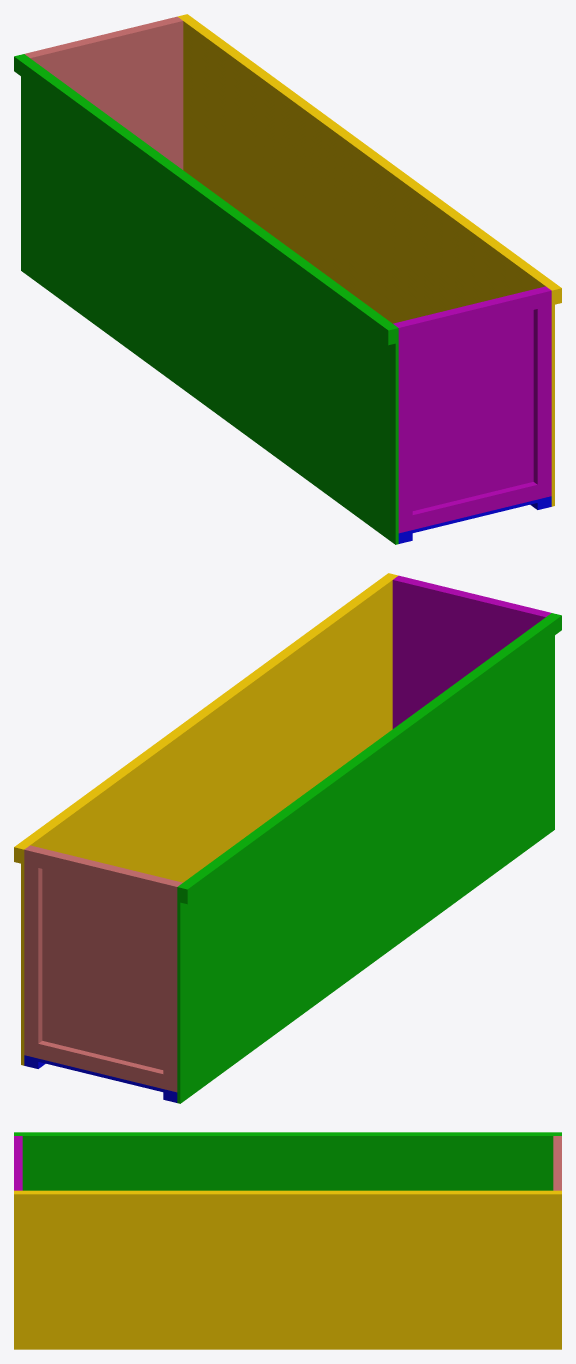
File: result.glb
3 renders of one model, top to bottom at view 1: azimuth 30°, elevation 25°; view 2: azimuth 150°, elevation 25°; view 3: azimuth 270°, elevation 25°, orthographic. The views are drawn at different scales.
Visible parts, largest first — view 1: a3d8192d-3efc-4f14-877e-ec4c3a8c9b68__Box_6, de3bc9cb-c05b-4d3c-95a8-48dde757513e__undefined, 83213cac-7314-445d-9668-8d3dd07cf3e8__Box_3, 8d25d38f-1c52-4956-8f95-e21bca737725__undefined, b6c8faca-d499-4035-a4a3-80472c25084f__Box_7, 33da404f-439a-4508-8ecd-762ebdee978c__undefined, bb93b729-c677-4623-b3e6-00174e1c14b9__Box_4, fa9a3a3a-377f-4ce2-b9c2-1210ac6718d0__undefined, cc20d427-0233-475d-a534-3da443a7e70f__undefined, 4f6c87e3-9db8-405e-9d43-2a7a855cbf0b__Box_5; view 2: a3d8192d-3efc-4f14-877e-ec4c3a8c9b68__Box_6, de3bc9cb-c05b-4d3c-95a8-48dde757513e__undefined, 8d25d38f-1c52-4956-8f95-e21bca737725__undefined, 83213cac-7314-445d-9668-8d3dd07cf3e8__Box_3, b6c8faca-d499-4035-a4a3-80472c25084f__Box_7, 2dbc2011-6aa1-4c82-b3d4-364602c1f261__undefined, 92e55f54-0e82-49bd-ac0d-64059cccb61f__undefined, fa9a3a3a-377f-4ce2-b9c2-1210ac6718d0__undefined, 31bdc2eb-d03f-4fad-a8c0-f8406249dc71__undefined, 3d1c200f-095e-44bb-bf83-92d2c9b4e57e__undefined; view 3: de3bc9cb-c05b-4d3c-95a8-48dde757513e__undefined, a3d8192d-3efc-4f14-877e-ec4c3a8c9b68__Box_6, fa9a3a3a-377f-4ce2-b9c2-1210ac6718d0__undefined, b6c8faca-d499-4035-a4a3-80472c25084f__Box_7.
Boxes of the visible parts, x1,y1,x2,y2 form: a3d8192d-3efc-4f14-877e-ec4c3a8c9b68__Box_6: (21, 54, 398, 544); de3bc9cb-c05b-4d3c-95a8-48dde757513e__undefined: (177, 16, 554, 506); 83213cac-7314-445d-9668-8d3dd07cf3e8__Box_3: (393, 286, 546, 510); 8d25d38f-1c52-4956-8f95-e21bca737725__undefined: (29, 19, 183, 169); b6c8faca-d499-4035-a4a3-80472c25084f__Box_7: (14, 55, 395, 345); 33da404f-439a-4508-8ecd-762ebdee978c__undefined: (533, 287, 551, 499); bb93b729-c677-4623-b3e6-00174e1c14b9__Box_4: (395, 321, 412, 533); fa9a3a3a-377f-4ce2-b9c2-1210ac6718d0__undefined: (181, 14, 561, 304); cc20d427-0233-475d-a534-3da443a7e70f__undefined: (409, 291, 537, 339); 4f6c87e3-9db8-405e-9d43-2a7a855cbf0b__Box_5: (412, 482, 537, 529); a3d8192d-3efc-4f14-877e-ec4c3a8c9b68__Box_6: (177, 613, 554, 1103); de3bc9cb-c05b-4d3c-95a8-48dde757513e__undefined: (21, 575, 398, 1065); 8d25d38f-1c52-4956-8f95-e21bca737725__undefined: (29, 845, 182, 1069); 83213cac-7314-445d-9668-8d3dd07cf3e8__Box_3: (392, 578, 546, 728); b6c8faca-d499-4035-a4a3-80472c25084f__Box_7: (180, 614, 561, 904); 2dbc2011-6aa1-4c82-b3d4-364602c1f261__undefined: (24, 846, 42, 1058); 92e55f54-0e82-49bd-ac0d-64059cccb61f__undefined: (163, 880, 180, 1092); fa9a3a3a-377f-4ce2-b9c2-1210ac6718d0__undefined: (14, 573, 394, 863); 31bdc2eb-d03f-4fad-a8c0-f8406249dc71__undefined: (38, 850, 166, 898); 3d1c200f-095e-44bb-bf83-92d2c9b4e57e__undefined: (38, 1041, 163, 1088); de3bc9cb-c05b-4d3c-95a8-48dde757513e__undefined: (14, 1190, 561, 1349); a3d8192d-3efc-4f14-877e-ec4c3a8c9b68__Box_6: (14, 1134, 561, 1190); fa9a3a3a-377f-4ce2-b9c2-1210ac6718d0__undefined: (14, 1191, 561, 1204); b6c8faca-d499-4035-a4a3-80472c25084f__Box_7: (14, 1132, 561, 1134).
Size of the model in its own units: 442 by 526 by 1652.
